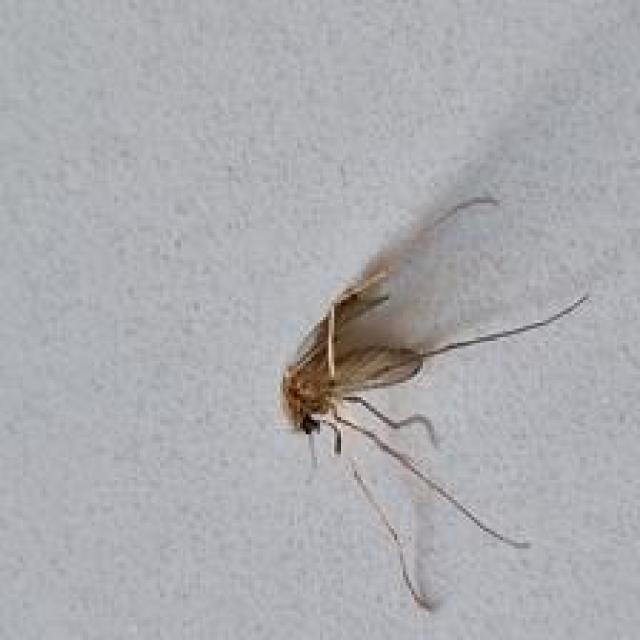Culex: (276, 193, 590, 613)
